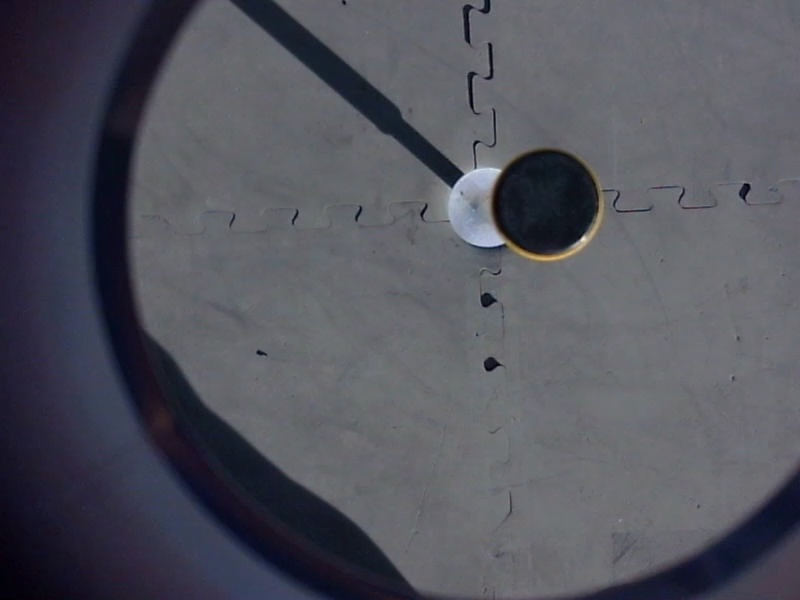tip: (487, 141, 611, 269)
